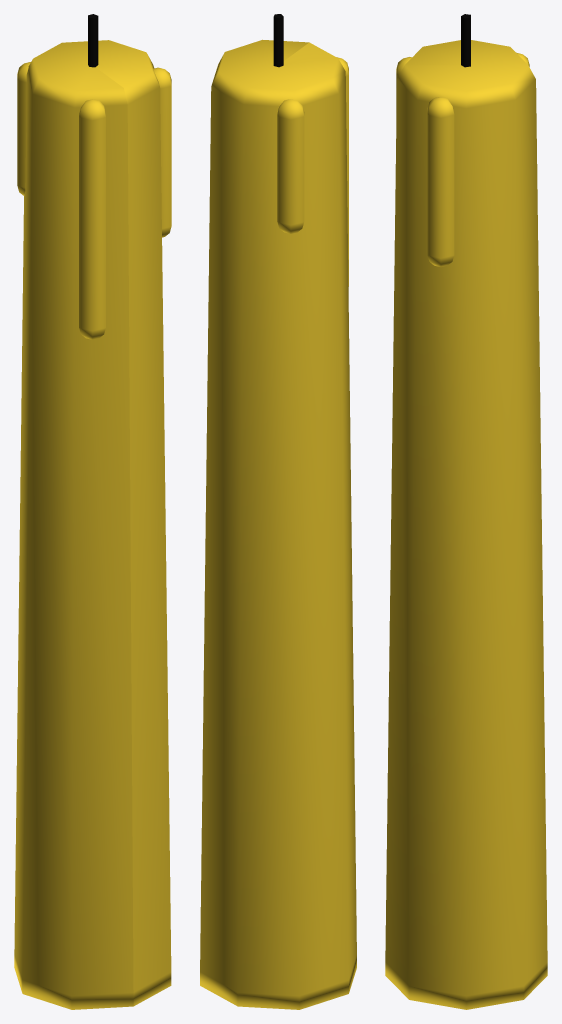
Rendered from candle.glb.
3 views of the same model, side by side, from view 1: azimuth 30°, elevation 25°; view 2: azimuth 150°, elevation 25°; view 3: azimuth 270°, elevation 25° (orthographic).
Parts seen in each view (by area): view 1: candle_body, candle_wick; view 2: candle_body, candle_wick; view 3: candle_body, candle_wick.
Boxes of the visible parts, x1,y1,x2,y2 form: candle_body: (14, 40, 171, 1009); candle_wick: (88, 14, 98, 67); candle_body: (200, 39, 356, 1009); candle_wick: (273, 14, 283, 67); candle_body: (385, 40, 547, 1009); candle_wick: (461, 14, 470, 67).
Bounding box in the file's own units: 0.042 × 0.274 × 0.042.
